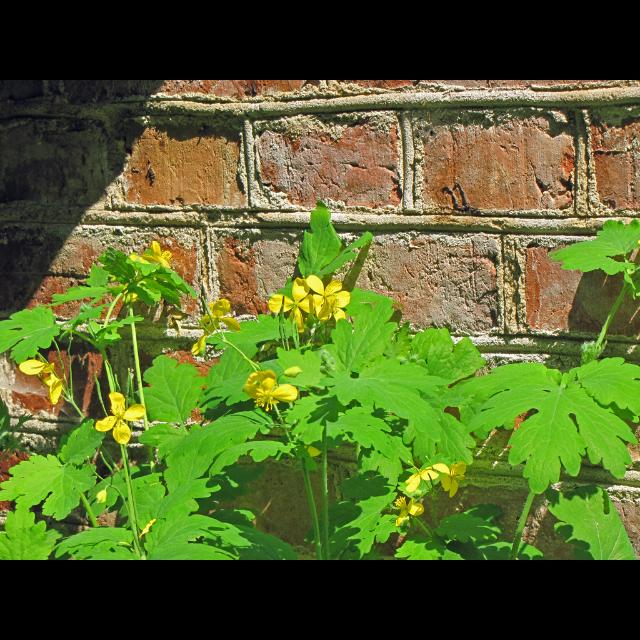Flower: (84, 398, 134, 456), (298, 270, 352, 322), (242, 366, 298, 416), (272, 274, 316, 330), (124, 244, 172, 292), (406, 468, 444, 492)
